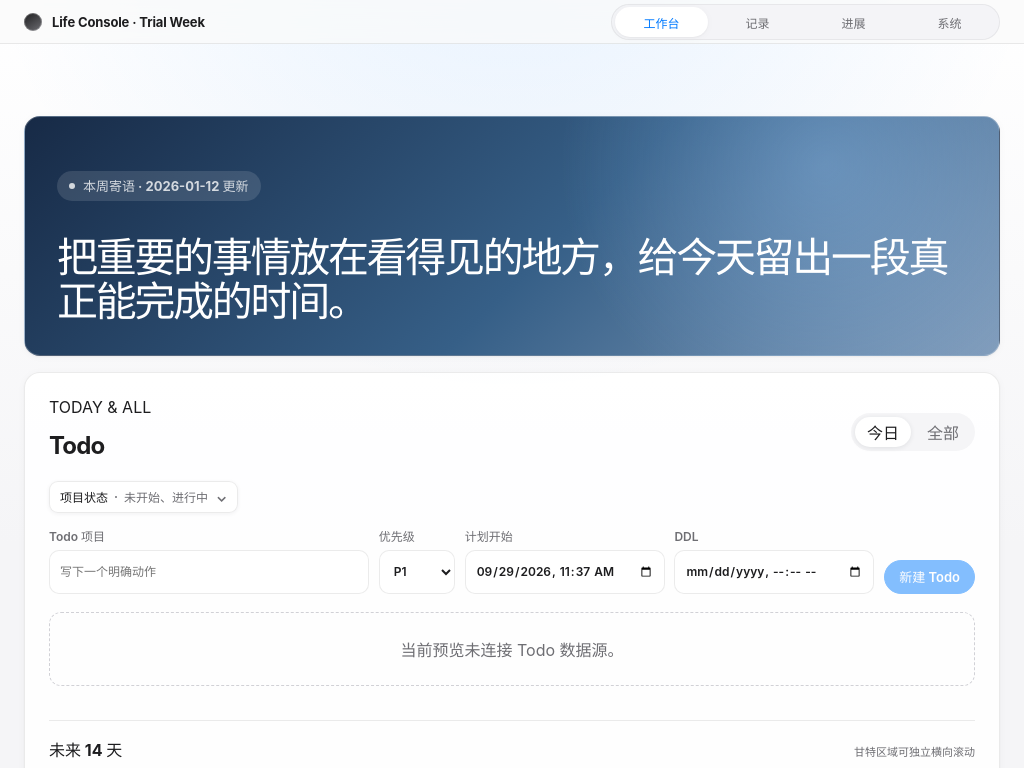
Test case: Life Console synthetic UI › keeps the 2.5 record page focused on the conversation entry
This screenshot has width=1024, height=768.
Click the button "记录": (757, 22) left=711, top=7, right=804, bottom=37
(page scrolled)
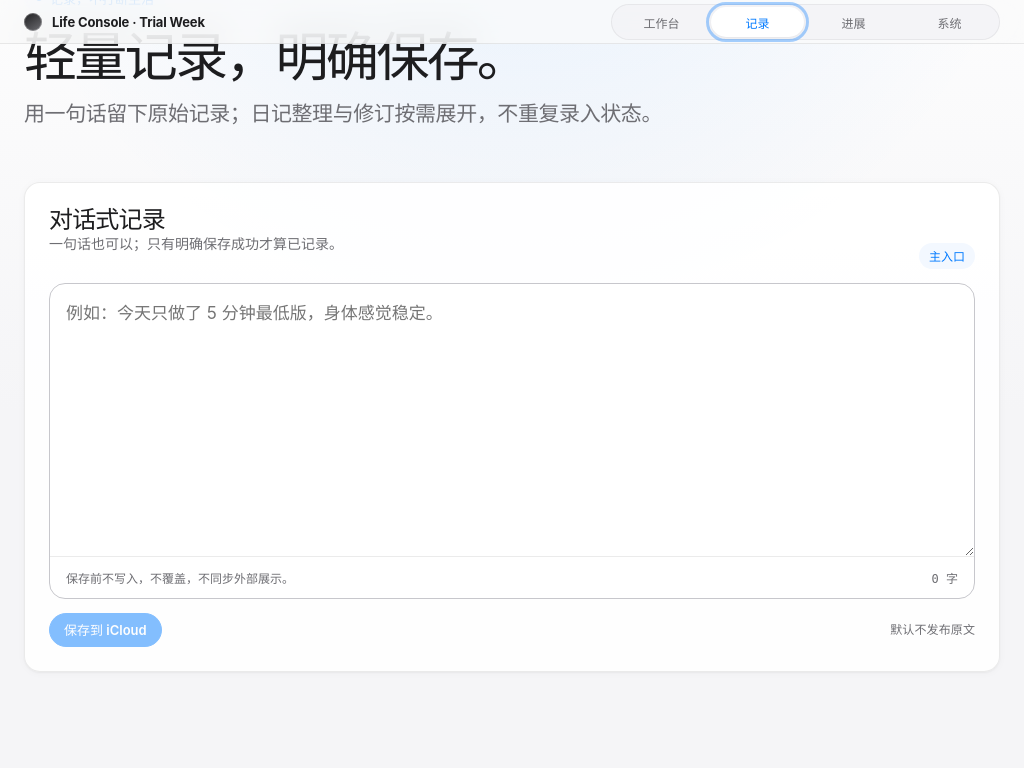
Expected: the element named "对话式记录面板" is shown
Expected: the button "保存到 iCloud" is shown, left=49, top=613, right=162, bottom=647
